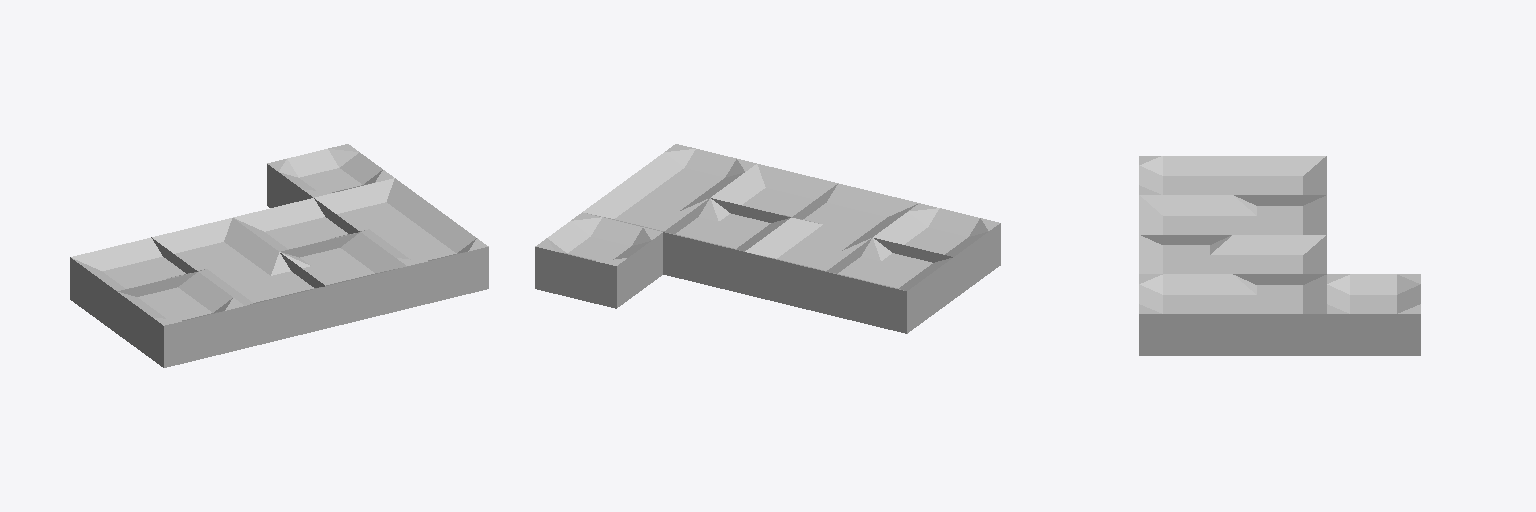
Rendered from 47s_path.obj.
3 views of the same model, side by side, from view 1: azimuth 30°, elevation 25°; view 2: azimuth 150°, elevation 25°; view 3: azimuth 270°, elevation 25° (orthographic).
Parts seen in each view (by area): view 1: ending.1.0_ending.485, corner.3.0_corner.1200, ending.4.0_ending.486, corner.2.0_corner.1198, corner.1.1_corner.1197, hole.4.2_Cube.244, corner.4.1_corner.1202, corner.2.1_corner.1199, corner.3.1_corner.1201; view 2: hole.4.2_Cube.244, corner.1.1_corner.1197, corner.2.1_corner.1199, corner.3.1_corner.1201, ending.1.0_ending.485, corner.2.0_corner.1198, ending.4.0_ending.486, corner.3.0_corner.1200, corner.4.1_corner.1202; view 3: ending.4.0_ending.486, corner.4.1_corner.1202, hole.4.2_Cube.244, corner.2.0_corner.1198, corner.2.1_corner.1199, ending.1.0_ending.485, corner.1.1_corner.1197, corner.3.1_corner.1201, corner.3.0_corner.1200.
Boxes of the visible parts, box(x1,y1,x2,y2) form: ending.1.0_ending.485: box(117, 272, 244, 367); corner.3.0_corner.1200: box(280, 232, 406, 328); ending.4.0_ending.486: box(361, 213, 488, 308); corner.2.0_corner.1198: box(199, 252, 325, 347); corner.1.1_corner.1197: box(70, 238, 196, 333); hole.4.2_Cube.244: box(267, 144, 393, 207); corner.4.1_corner.1202: box(314, 178, 441, 237); corner.2.1_corner.1199: box(151, 218, 278, 276); corner.3.1_corner.1201: box(233, 198, 359, 257); hole.4.2_Cube.244: box(535, 212, 662, 308); corner.1.1_corner.1197: box(826, 238, 953, 333); corner.2.1_corner.1199: box(745, 218, 872, 313); corner.3.1_corner.1201: box(663, 198, 789, 293); ending.1.0_ending.485: box(873, 203, 1000, 298); corner.2.0_corner.1198: box(792, 183, 918, 242); ending.4.0_ending.486: box(630, 144, 756, 202); corner.3.0_corner.1200: box(711, 164, 837, 222); corner.4.1_corner.1202: box(583, 178, 709, 233); ending.4.0_ending.486: box(1139, 274, 1232, 355); corner.4.1_corner.1202: box(1233, 274, 1326, 355); hole.4.2_Cube.244: box(1327, 274, 1420, 355); corner.2.0_corner.1198: box(1139, 195, 1232, 244); corner.2.1_corner.1199: box(1233, 195, 1326, 234); ending.1.0_ending.485: box(1139, 156, 1232, 194); corner.1.1_corner.1197: box(1233, 156, 1326, 194); corner.3.1_corner.1201: box(1233, 235, 1326, 273); corner.3.0_corner.1200: box(1139, 235, 1232, 273).
Bounding box in the file's own units: 8 × 1 × 6.